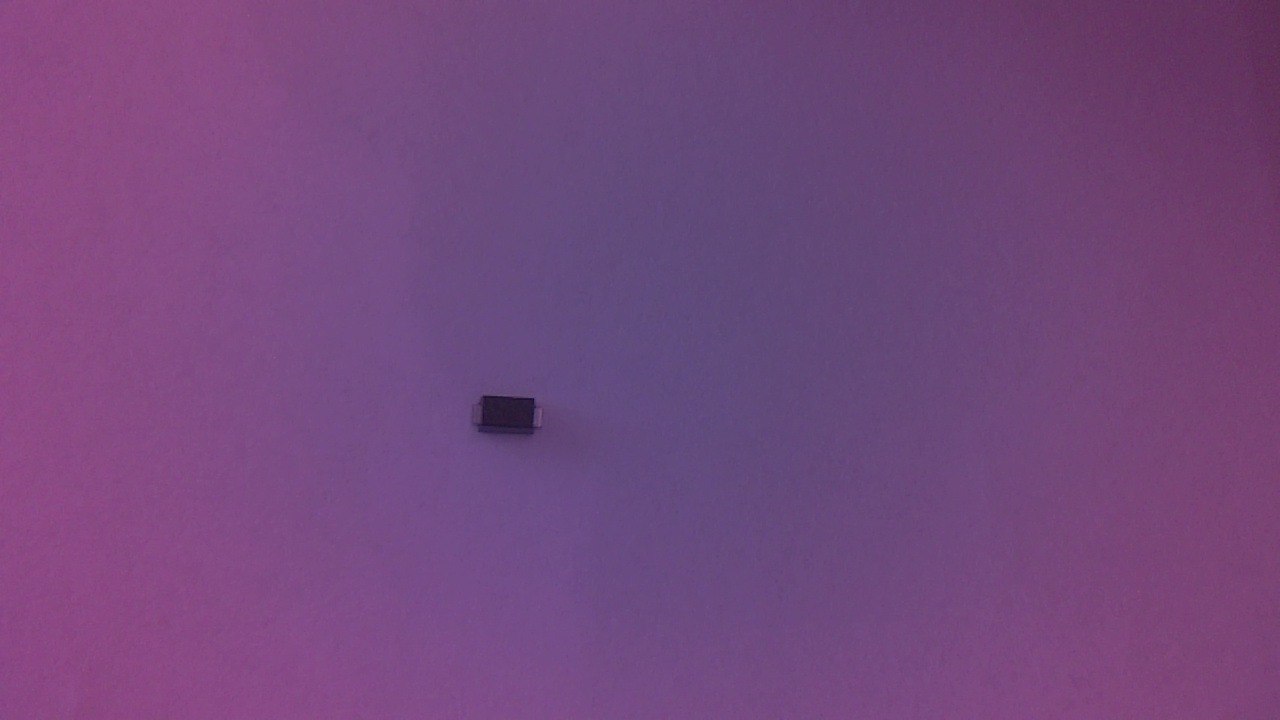Diode: (467, 393, 556, 446)
